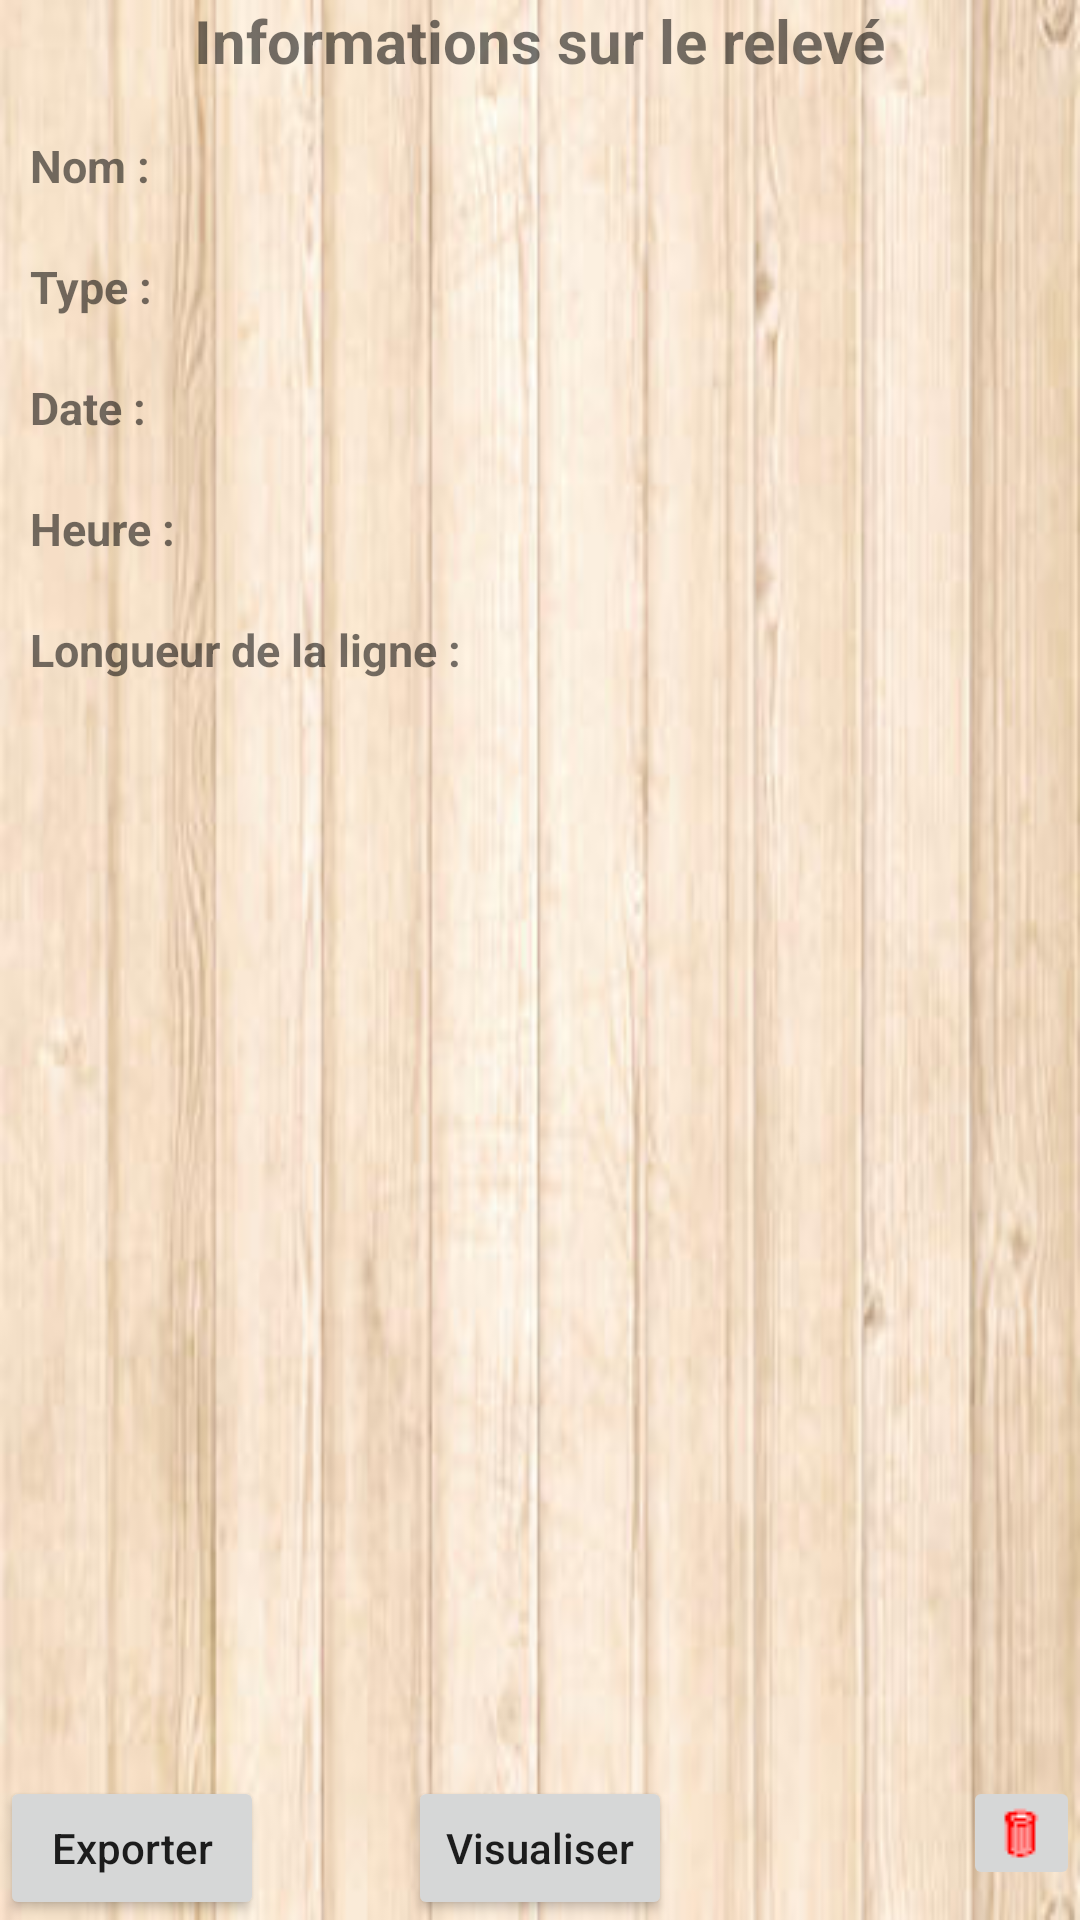

Locate icon controls on the screen. Image size 1080px×1920px, boxes as detection(x1, y1, x2, y2).
delete: detection(972, 1776, 1080, 1890)
